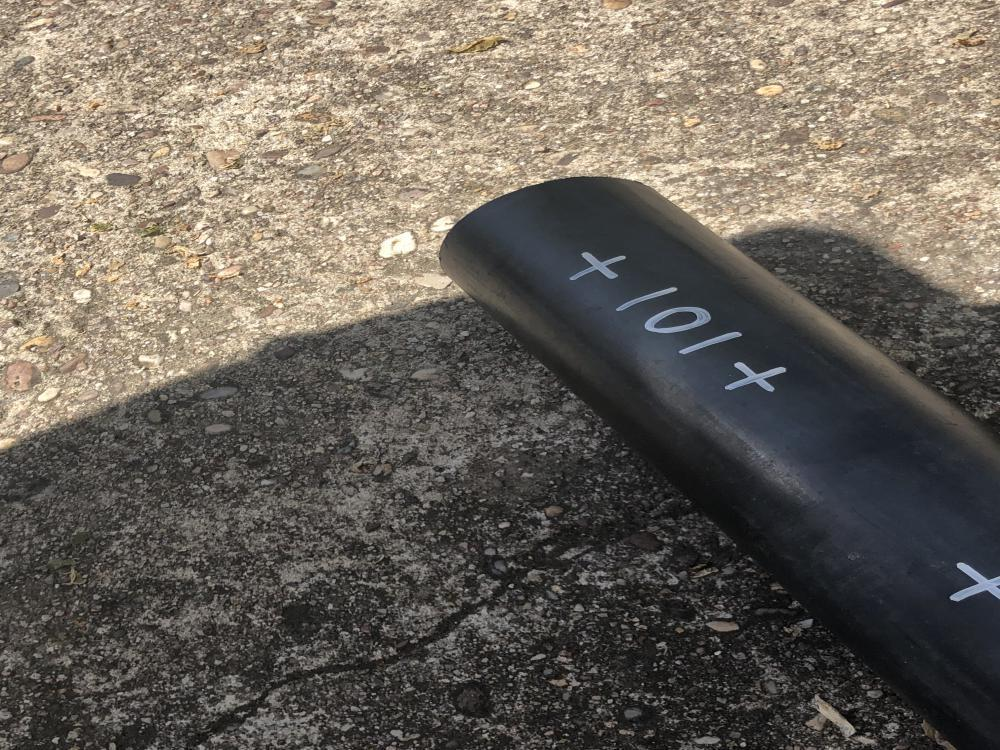+: (948, 560, 999, 606), (723, 362, 788, 393), (568, 252, 626, 282)
0: (644, 306, 713, 334)
1: (614, 286, 678, 312), (678, 331, 743, 355)
